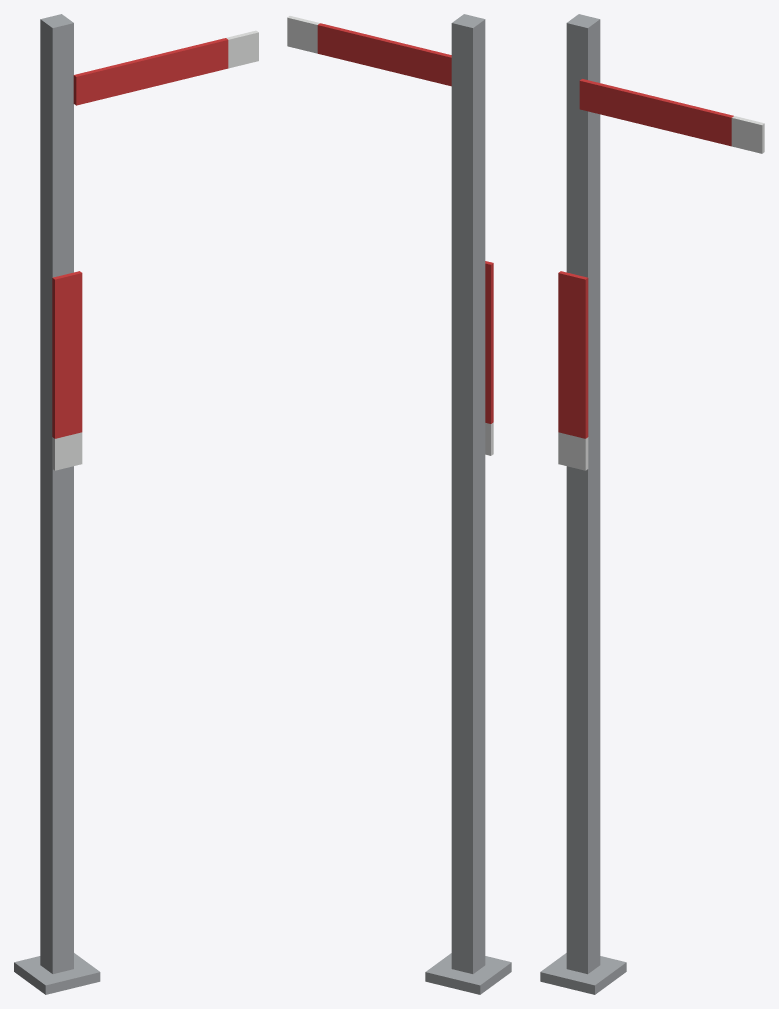
Rendered from sig_form_hp.gltf.
3 views of the same model, side by side, from view 1: azimuth 30°, elevation 25°; view 2: azimuth 150°, elevation 25°; view 3: azimuth 330°, elevation 25° (orthographic).
Parts seen in each view (by area): view 1: mast, fluegel2, fluegel1; view 2: mast, fluegel1, fluegel2; view 3: mast, fluegel2, fluegel1.
Boxes of the visible parts, x1,y1,x2,y2 form: mast: (14, 14, 100, 994); fluegel2: (52, 271, 82, 470); fluegel1: (73, 30, 258, 105); mast: (425, 14, 511, 994); fluegel1: (287, 16, 451, 86); fluegel2: (485, 261, 493, 455); mast: (540, 14, 626, 994); fluegel2: (558, 271, 588, 470); fluegel1: (579, 79, 764, 153).
Size of the model in its own units: 1.43 by 6 by 0.36.
